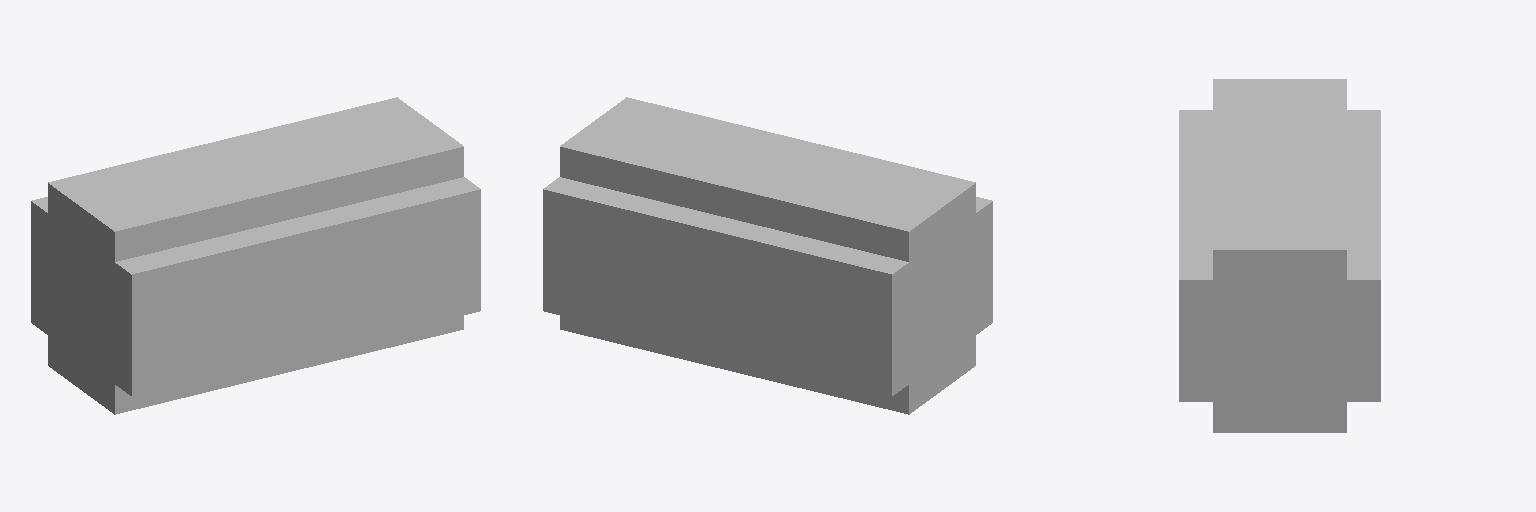
File: Simple Charapter-0-Brazo Mano.obj
3 renders of one model, left to right at view 1: azimuth 30°, elevation 25°; view 2: azimuth 150°, elevation 25°; view 3: azimuth 270°, elevation 25°, orthographic.
Parts seen in each view (by area): view 1: Brazo Mano; view 2: Brazo Mano; view 3: Brazo Mano.
Boxes of the visible parts, box(x1,y1,x2,y2) form: Brazo Mano: box(31, 97, 480, 414); Brazo Mano: box(543, 97, 992, 414); Brazo Mano: box(1179, 79, 1380, 432).
Size of the model in its own units: 1.2 by 0.6 by 0.6.